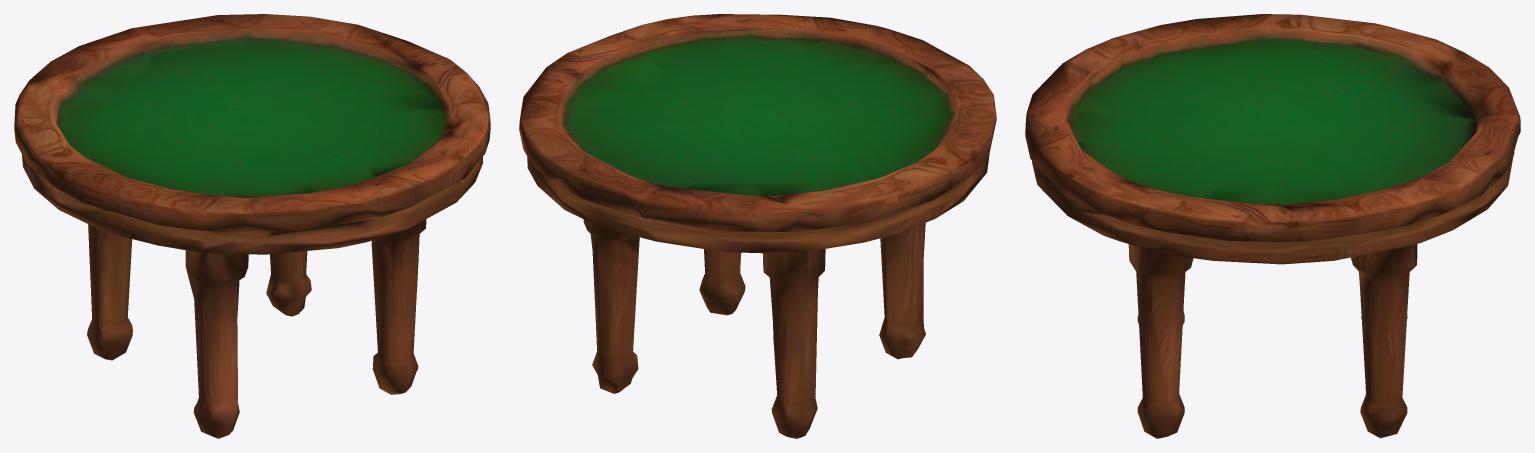
The model's file is 圆形桌子.glb.
3 views of the same model, side by side, from view 1: azimuth 30°, elevation 25°; view 2: azimuth 150°, elevation 25°; view 3: azimuth 270°, elevation 25° (orthographic). The views are drawn at different scales.
Parts seen in each view (by area): view 1: tripo_node_09aa0353-a576-405a-928b-f824fb81540b; view 2: tripo_node_09aa0353-a576-405a-928b-f824fb81540b; view 3: tripo_node_09aa0353-a576-405a-928b-f824fb81540b.
Part boxes in pixels (x1,y1,x2,y2): tripo_node_09aa0353-a576-405a-928b-f824fb81540b: (14,14,490,438); tripo_node_09aa0353-a576-405a-928b-f824fb81540b: (519,14,996,438); tripo_node_09aa0353-a576-405a-928b-f824fb81540b: (1025,14,1520,438).
Bounding box in the file's own units: 0.9964 × 0.6127 × 0.9992.
Materials: 1 (1 with a texture image).
